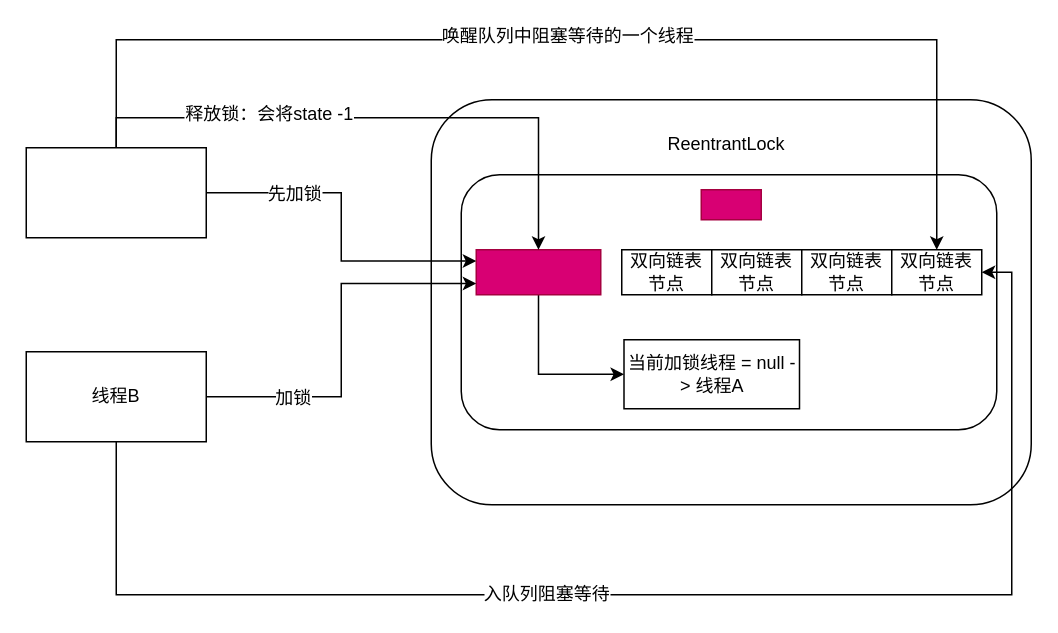
Image size: 1058x633. Some labels were removed from this diagram. Each missing label, with the centre of its shape:
"AQS" goes at (x=730, y=204).
"state = 0 -> 1" goes at (x=538, y=271).
"线程A" goes at (x=115, y=192).
